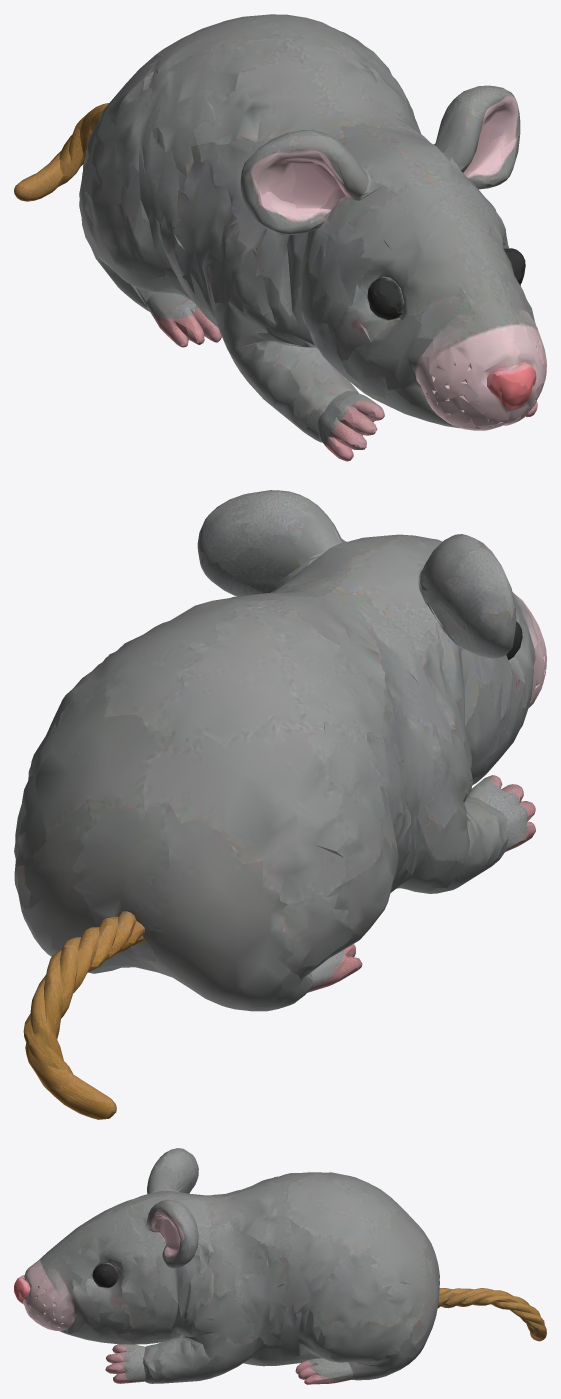
The model's file is felt-mouse.glb.
3 views of the same model, one above another, from view 1: azimuth 30°, elevation 25°; view 2: azimuth 150°, elevation 25°; view 3: azimuth 270°, elevation 25° (orthographic). The views are drawn at different scales.
Size of the model in its own units: 0.7392 by 0.7146 by 1.9.
1 material, 1 textured.
